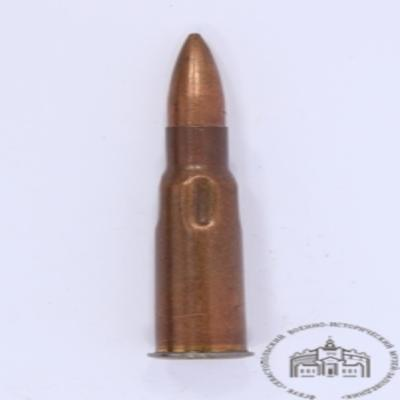weapon: (148, 33, 251, 361)
